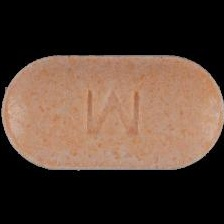0378-1800: (0, 0, 224, 224)
